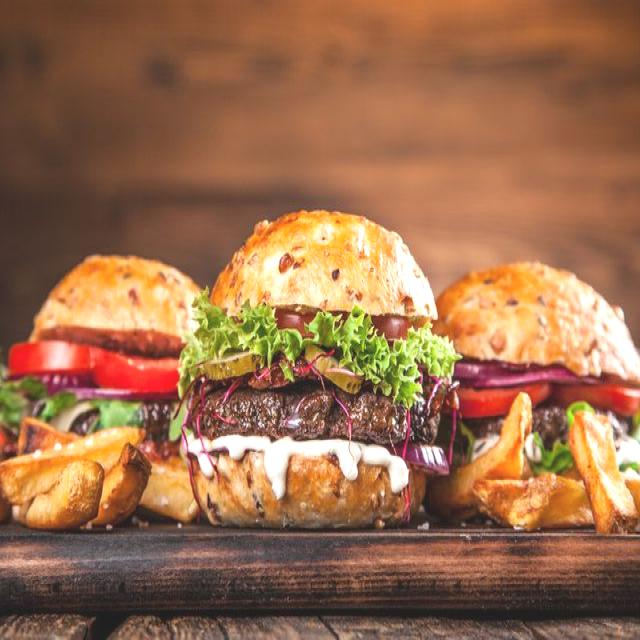burger: (164, 193, 465, 552), (27, 172, 239, 564), (418, 224, 627, 572)
